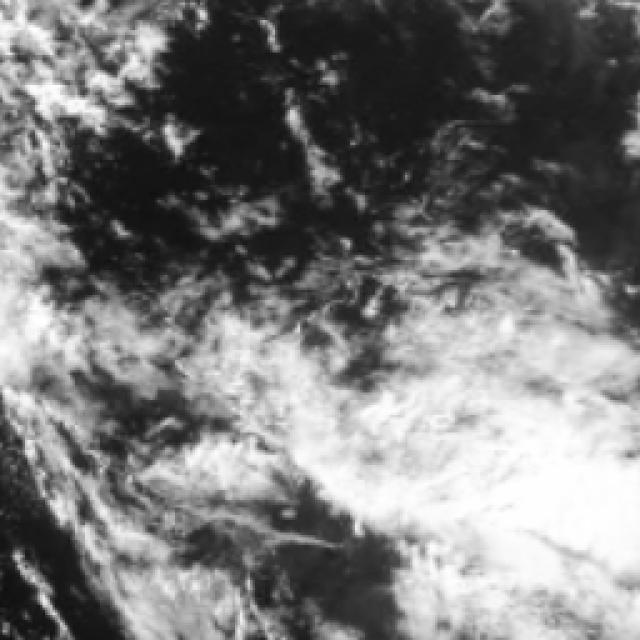CB: (459, 420, 640, 594)
